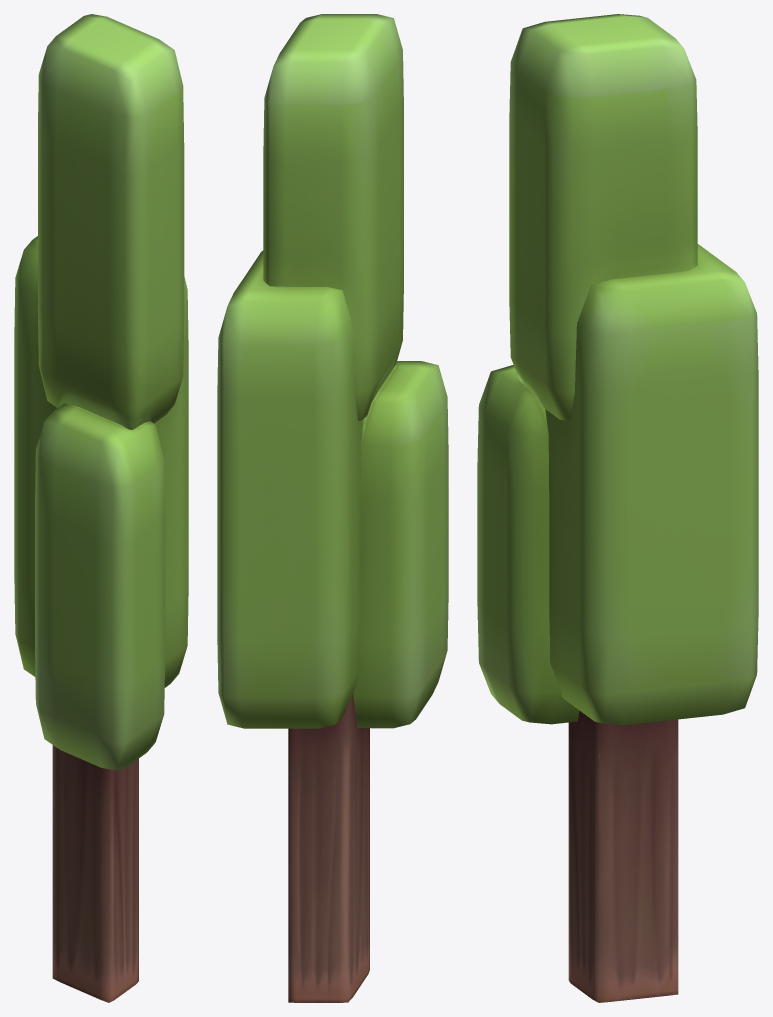
File: tree1.glb
3 renders of one model, left to right at view 1: azimuth 30°, elevation 25°; view 2: azimuth 150°, elevation 25°; view 3: azimuth 270°, elevation 25°, orthographic.
Visible parts, largest first — view 1: Cube.001_Env_0; view 2: Cube.001_Env_0; view 3: Cube.001_Env_0.
Part boxes in pixels (x1,y1,x2,y2): Cube.001_Env_0: (14,14,188,1002); Cube.001_Env_0: (217,14,448,1002); Cube.001_Env_0: (477,14,758,1002).
Bounding box in the file's own units: 6.85 × 40.01 × 10.62.
Materials: 1 (1 with a texture image).
